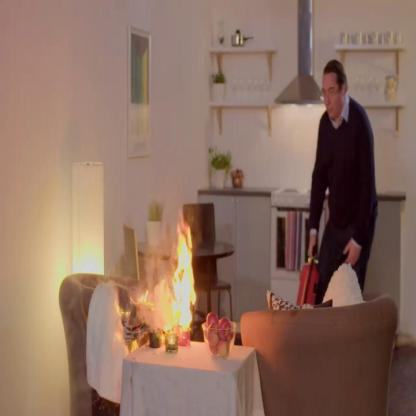fire: (166, 220, 197, 330)
